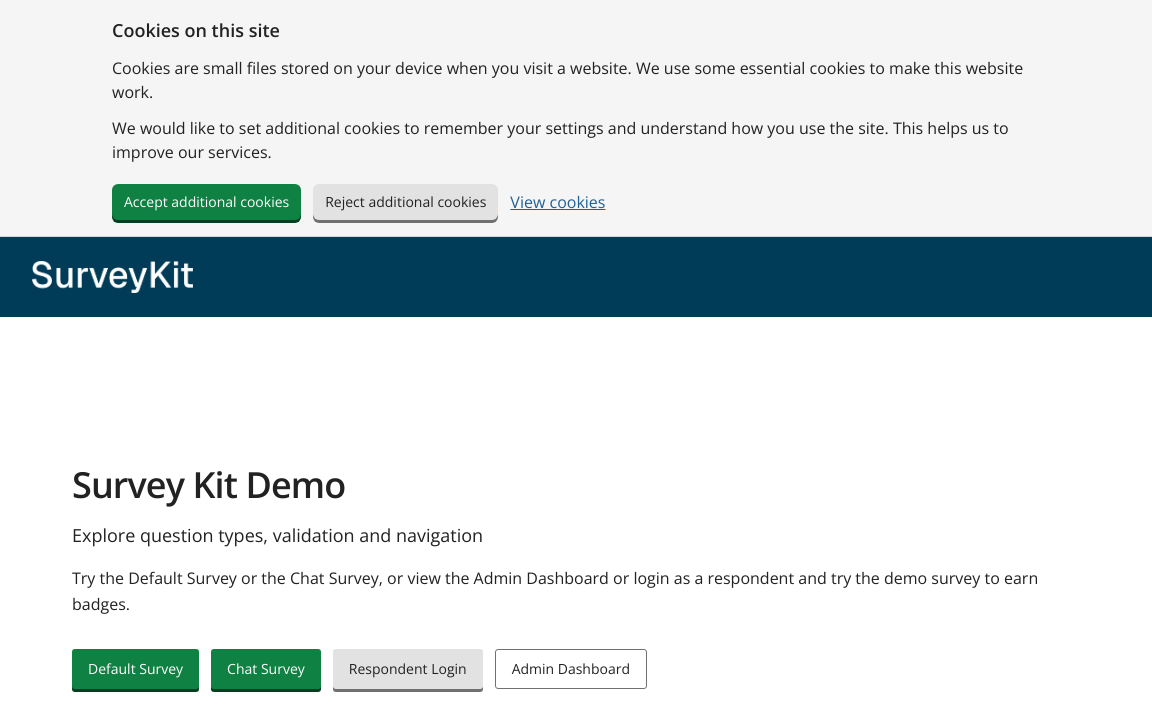
it: App Router Integration › navigates to survey-1 when Get started is clicked
Click the button "Default Survey" at (136, 669), box x1=72 y1=649 x2=199 y2=689
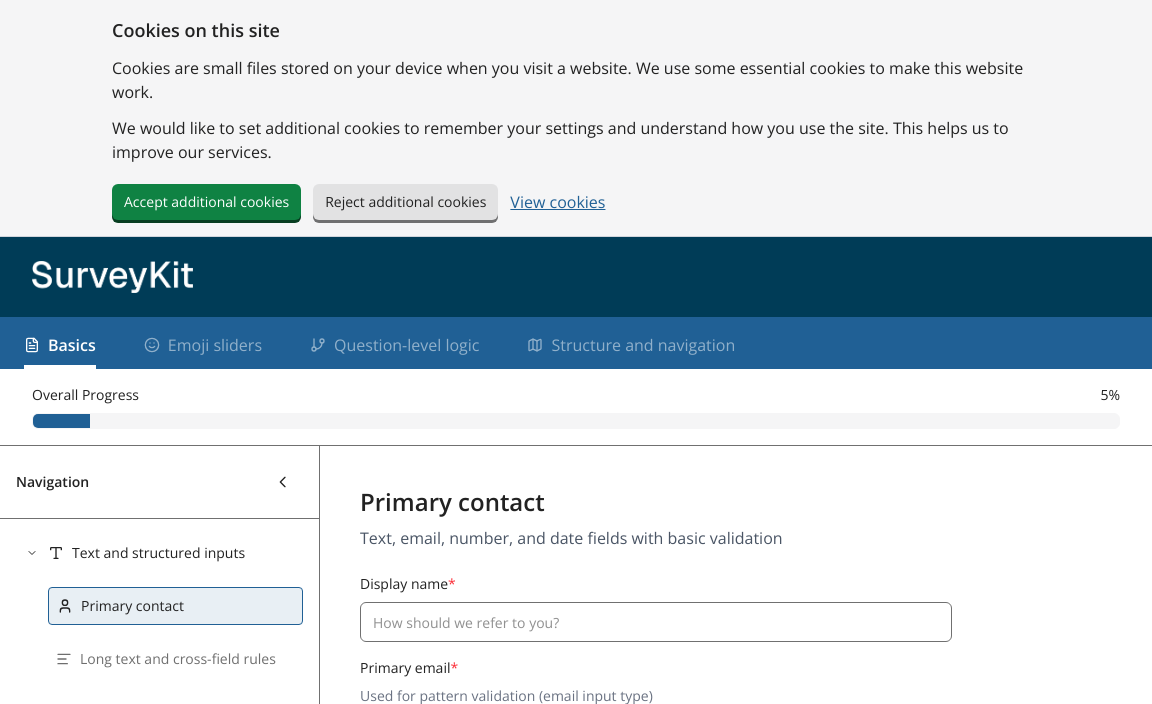
Now the heading "Primary contact" is shown, box x1=360 y1=485 x2=545 y2=518
